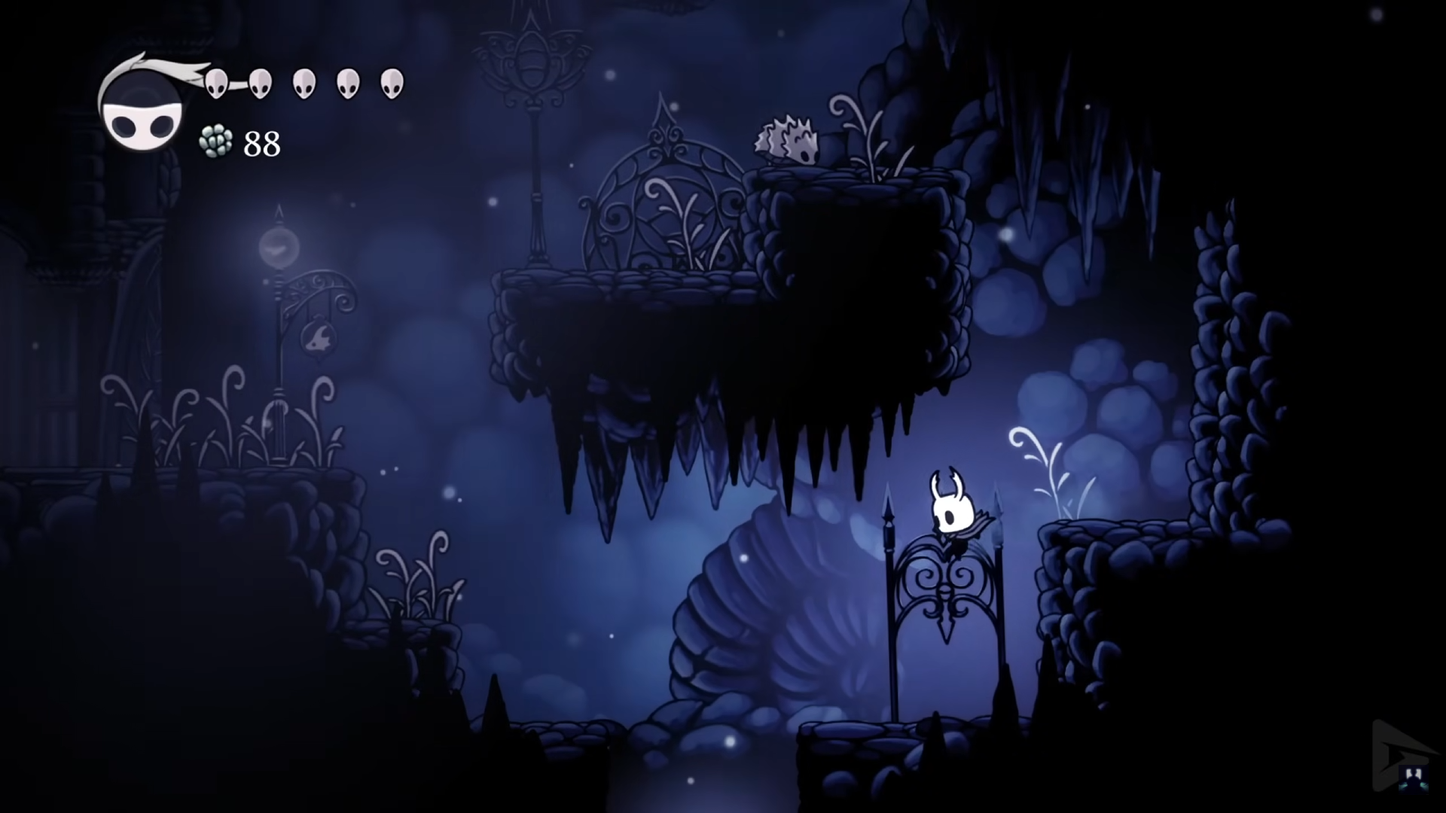HK: (926, 464, 987, 564)
